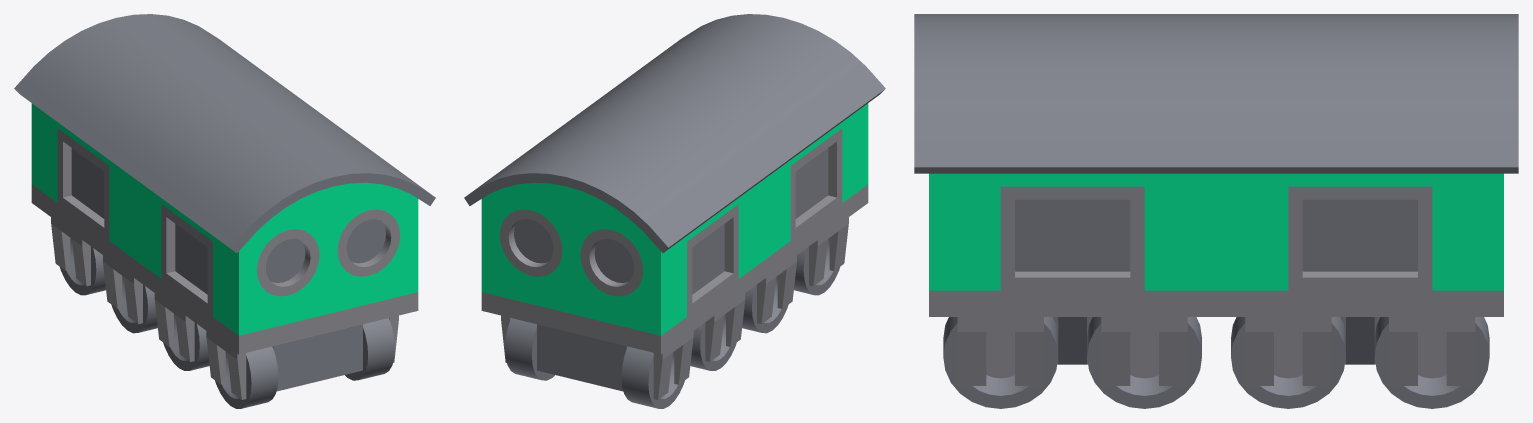
Rendered from Wagon_classic.glb.
3 views of the same model, side by side, from view 1: azimuth 30°, elevation 25°; view 2: azimuth 150°, elevation 25°; view 3: azimuth 270°, elevation 25° (orthographic). The views are drawn at different scales.
Visible parts, largest first — view 1: queue-train; view 2: queue-train; view 3: queue-train.
Part boxes in pixels (<box>): queue-train: <box>14,14,435,408</box>; queue-train: <box>464,14,885,408</box>; queue-train: <box>914,14,1518,408</box>.
Size of the model in its own units: 1.14 by 1.25 by 2.1.
